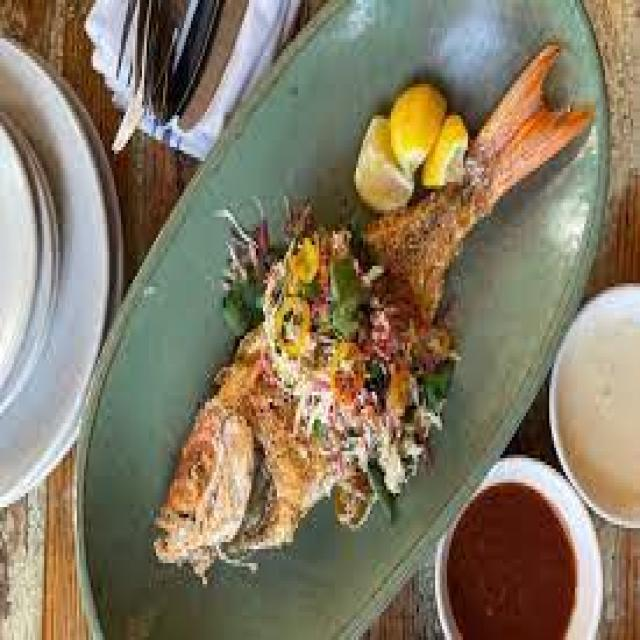Peixe: (146, 38, 594, 580)
